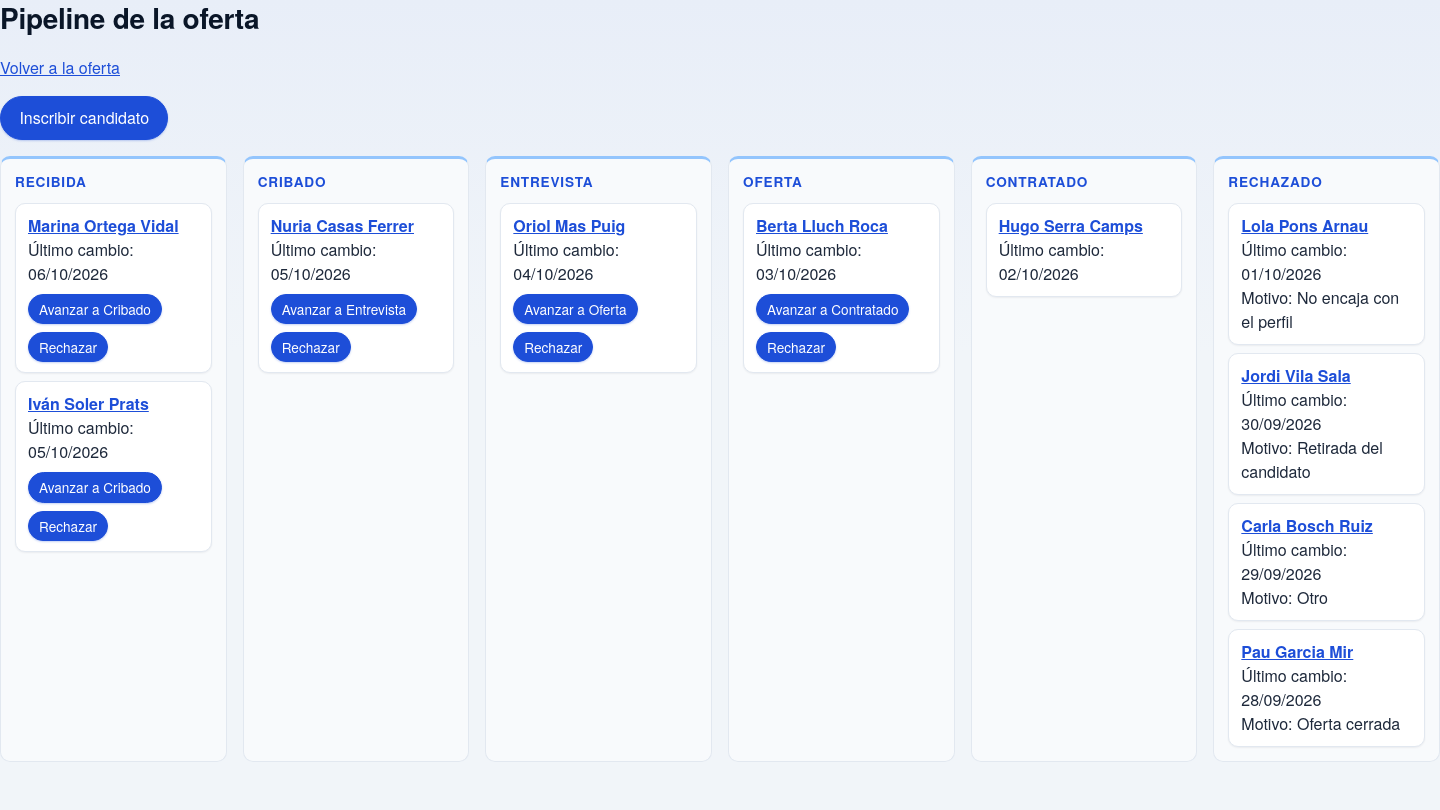
Test: PipelineScreen: inscribir (RF-08) › CA-02: POST con {"jobId":7,"candidateId":12}; aviso Candidato inscrito. con el foco; panel cerrado; recarga sin Cargando y la tarjeta la primera de Recibida
Click the button "Inscribir candidato" at (84, 118), box [0,96,168,140]
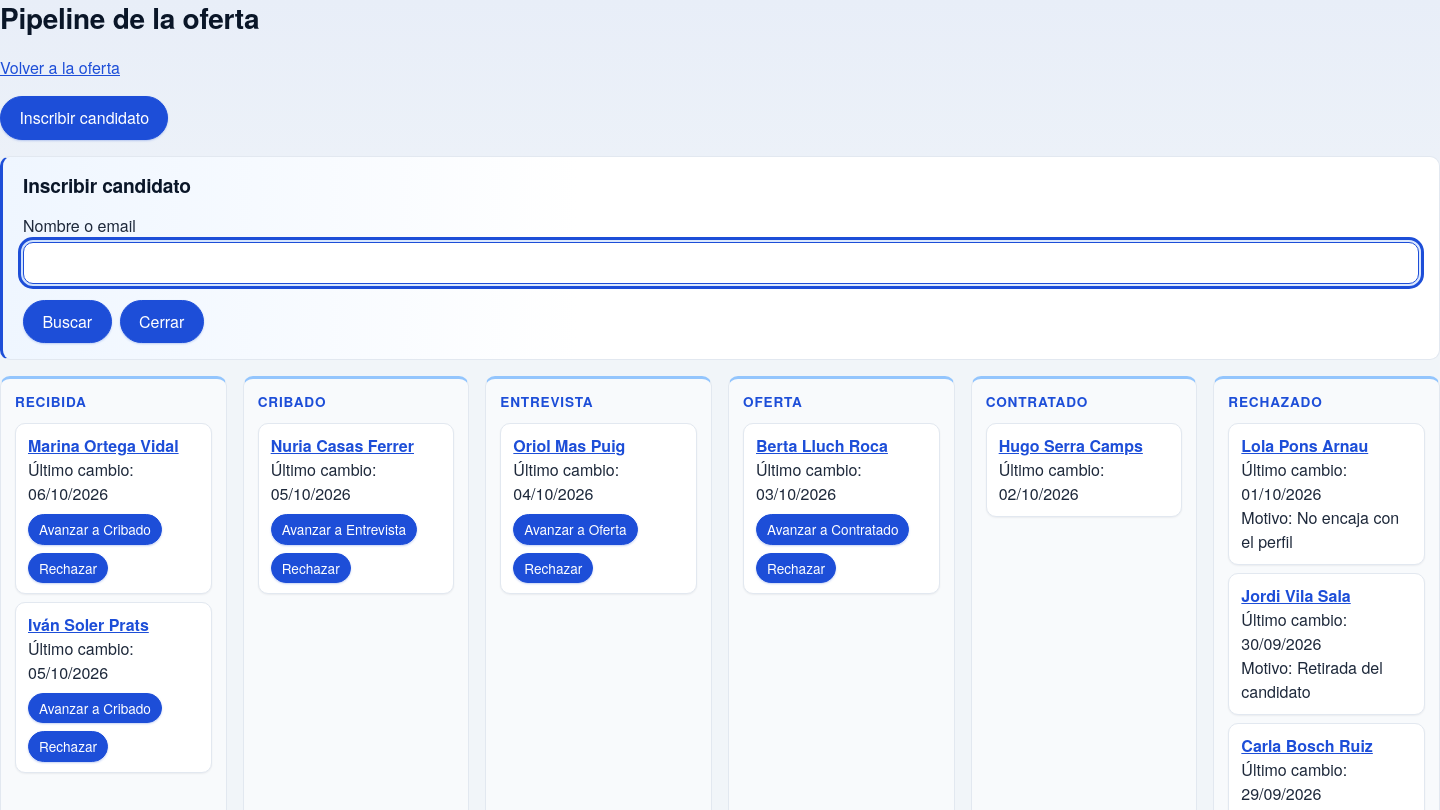
Type "ana" into the search field labelled "Nombre o email" at (721, 263), box [23,242,1419,284]
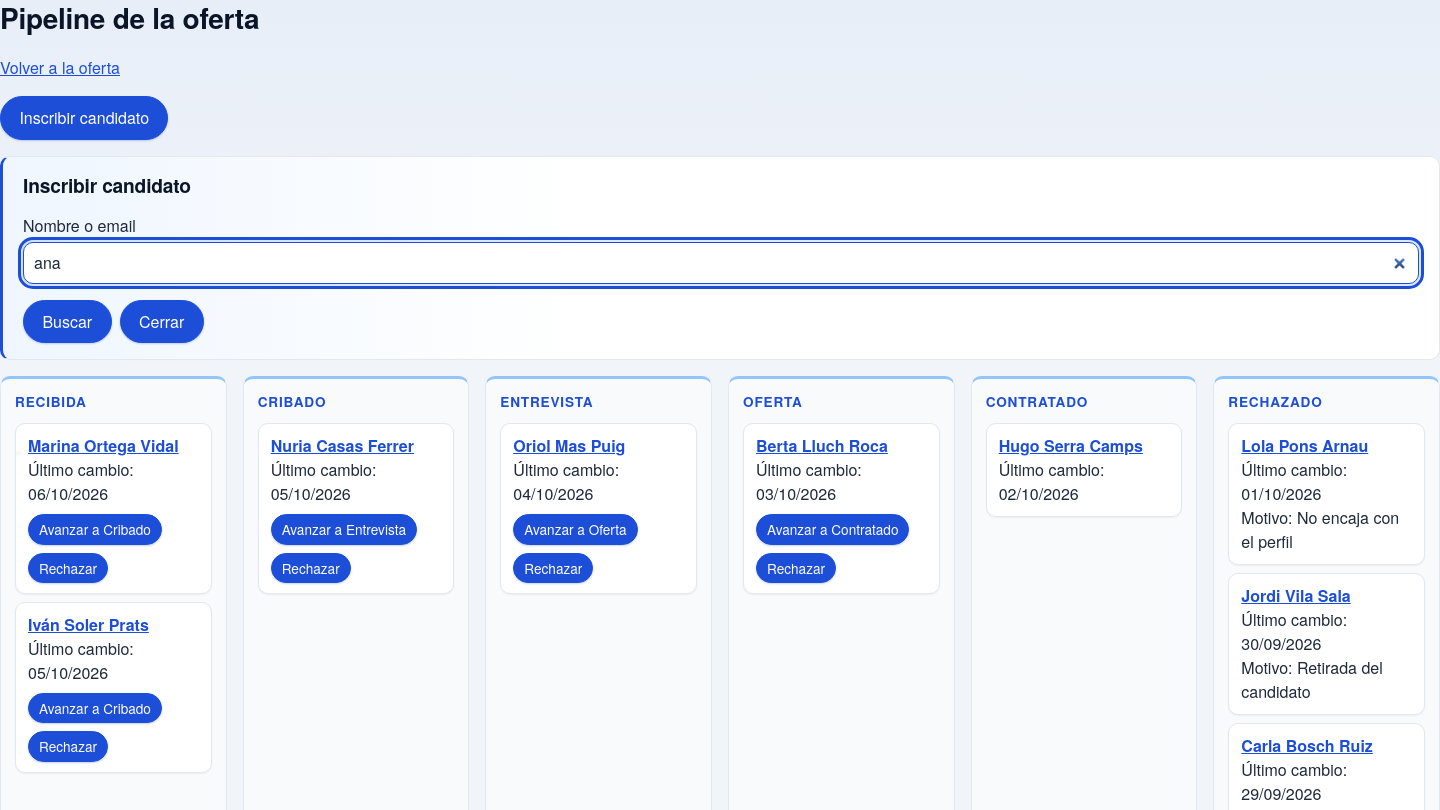
Click the button "Buscar" at (67, 322), box [23,300,112,344]
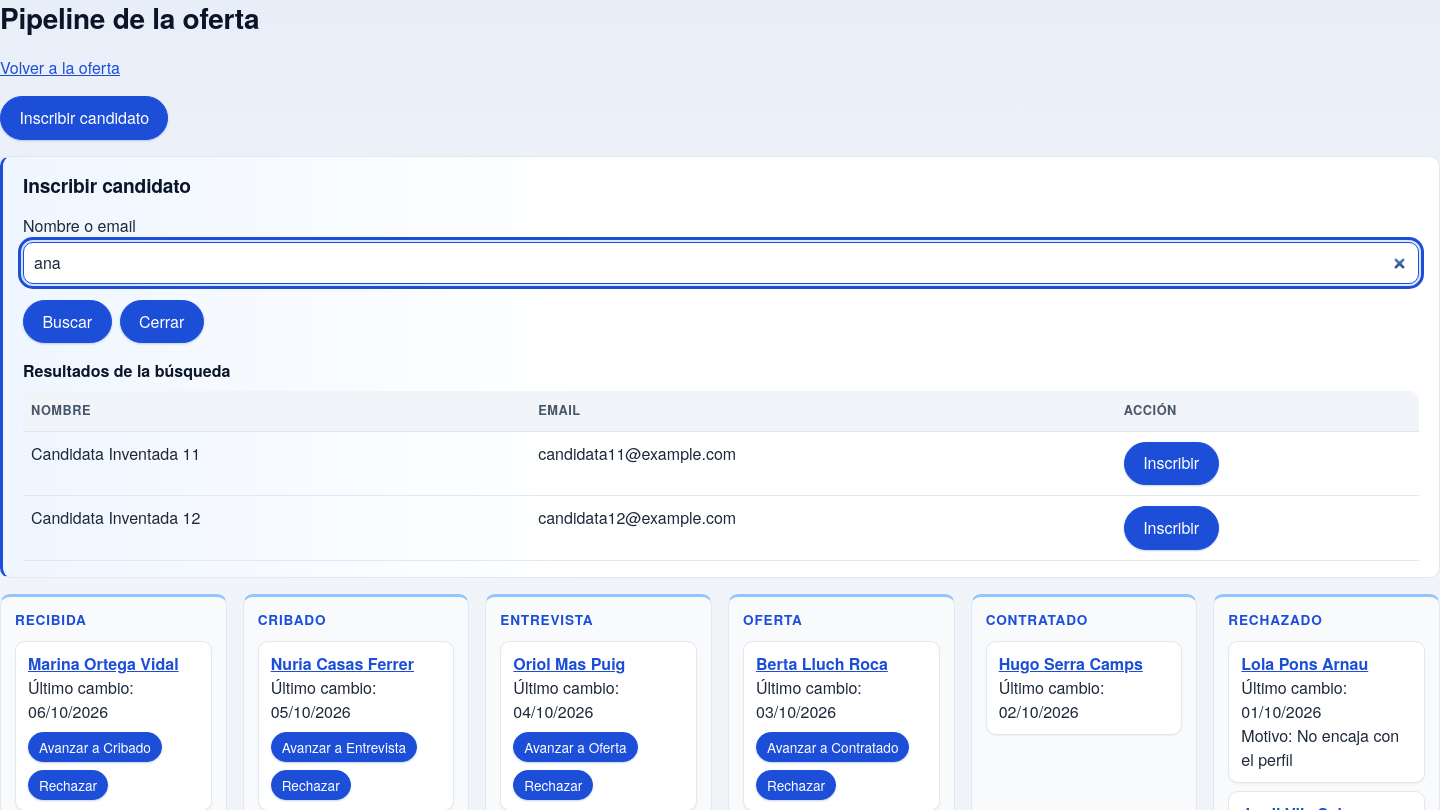
expect the table "Resultados de la búsqueda" is shown: met, box [23,360,1419,561]
Click the button "Inscribir" in the row of "Candidata Inventada 12" at (1171, 528), box [1124,506,1219,550]
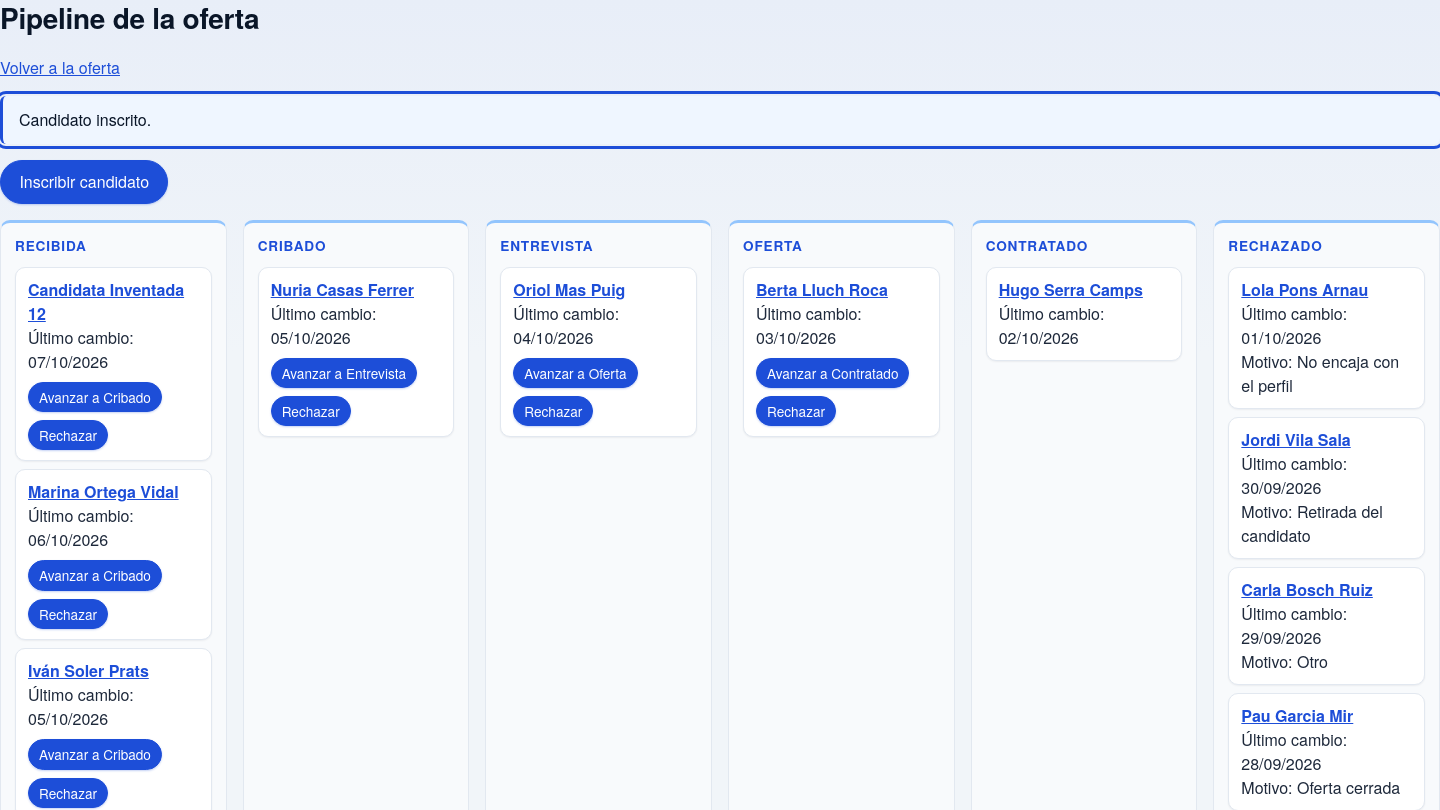
expect the link "Candidata Inventada 12" is shown: met, box [28,278,184,325]
expect the label labelled "Nombre o email" is gone: met
expect the button "Inscribir candidato" is collapsed: met, box [0,160,168,204]
